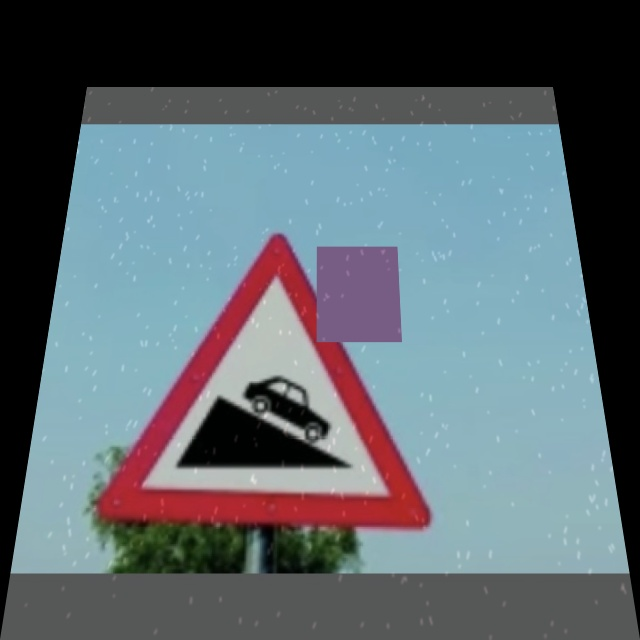Steep_Descent: (99, 237, 427, 524)
